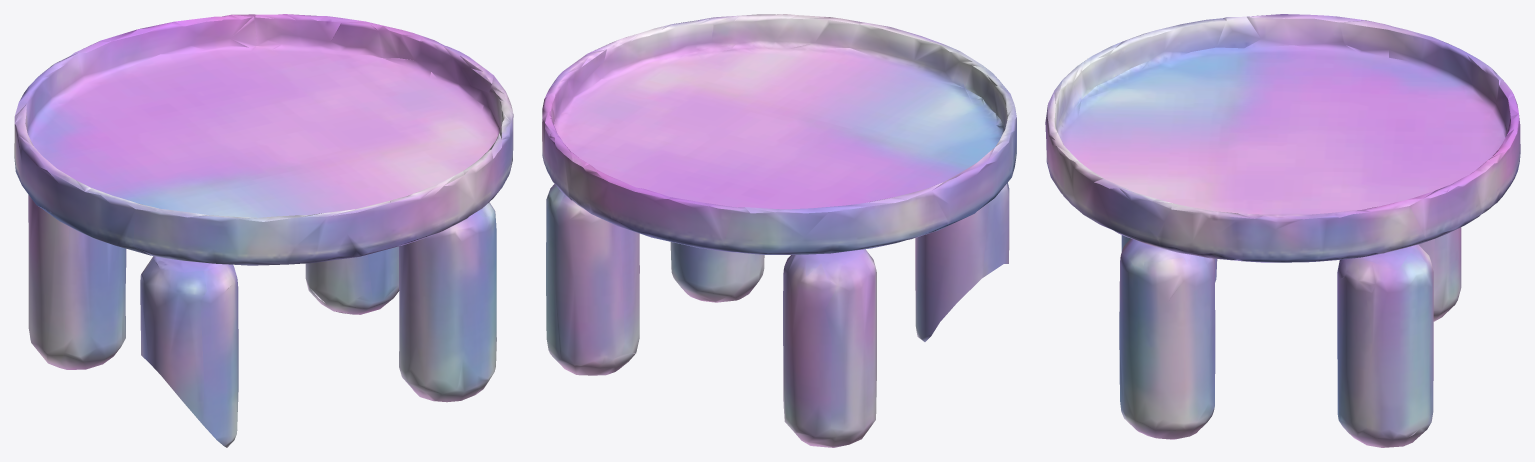
The model's file is table24.glb.
The picture shows the model from 3 angles, left to right: view 1: azimuth 30°, elevation 25°; view 2: azimuth 150°, elevation 25°; view 3: azimuth 270°, elevation 25°; orthographic projection. The views are drawn at different scales.
Size of the model in its own units: 0.232 by 0.1349 by 0.2259.
Materials: 1 (1 with a texture image).
